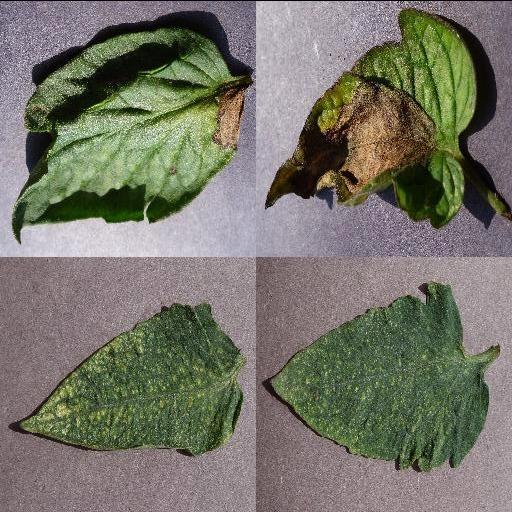Late Blight: (9, 25, 253, 243), (264, 8, 478, 228)
Spider Mites: (268, 282, 490, 474), (15, 302, 247, 454)
